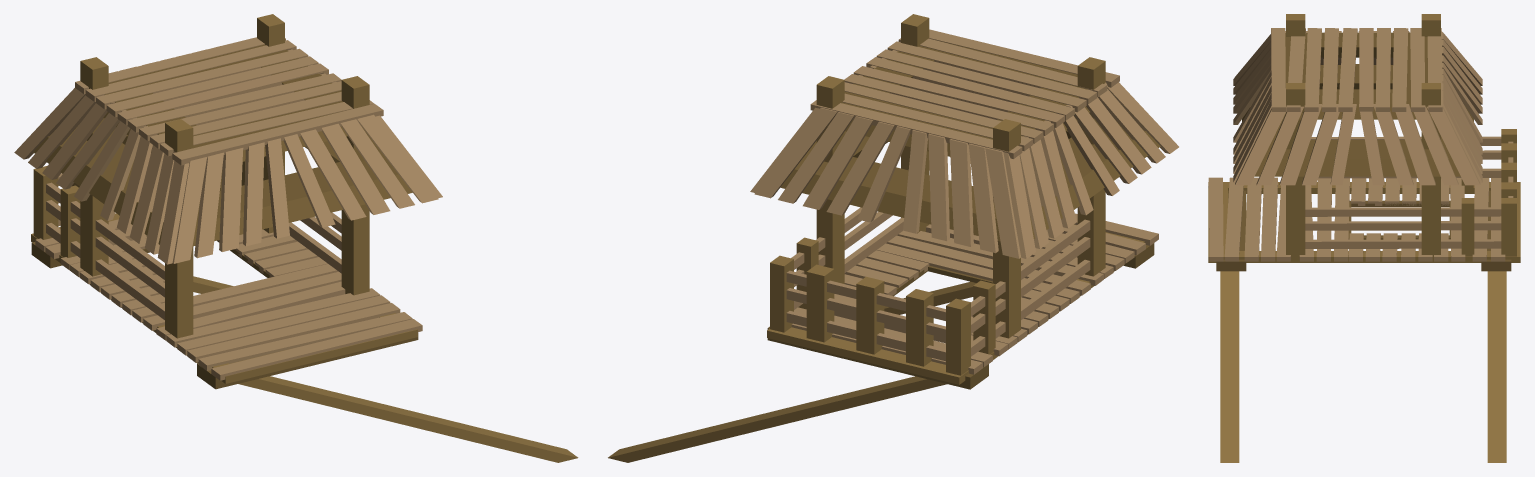
File: shack_thing.fbx
The picture shows the model from 3 angles, left to right: view 1: azimuth 30°, elevation 25°; view 2: azimuth 150°, elevation 25°; view 3: azimuth 270°, elevation 25°; orthographic projection. The views are drawn at different scales.
Parts seen in each view (by area): view 1: pCube28, pCube30, pCube70, pCube44 (×2), pCube39 (×2), pCube40 (×2), pCube38 (×2), pCube41 (×2), pCube42 (×2), pCube43 (×2), pCube37 (×2), pPlane13 (+30 smaller); view 2: pCube28, pCube30, pCube68, pCube38 (×2), pCube39 (×2), pCube37 (×2), pCube44 (×2), pCube40, pCube42, pCube41, pPlane23, pPlane22 (+35 smaller); view 3: pCube28, pCube30, pCube68, pCube70, pCube44 (×2), pCube42 (×2), pCube41 (×2), pCube38 (×2), pCube37 (×2), pCube43 (×2), pCube40 (×2), pCube39 (×2) (+48 smaller).
Part boxes in pixels (x1,y1,x2,y2): pCube28: [31, 14, 417, 383]; pCube30: [33, 44, 412, 246]; pCube70: [238, 376, 578, 462]; pCube44 (×2): [172, 103, 422, 380]; pCube39 (×2): [117, 63, 345, 340]; pCube40 (×2): [127, 73, 380, 347]; pCube38 (×2): [106, 56, 341, 330]; pCube41 (×2): [139, 81, 390, 355]; pCube42 (×2): [150, 92, 400, 362]; pCube43 (×2): [160, 100, 412, 370]; pCube37 (×2): [96, 48, 338, 322]; pPlane13: [219, 148, 243, 251]; pCube28: [767, 14, 1144, 384]; pCube30: [780, 39, 1160, 241]; pCube68: [608, 376, 947, 462]; pCube38 (×2): [844, 74, 1090, 295]; pCube39 (×2): [853, 66, 1103, 285]; pCube37 (×2): [844, 82, 1079, 303]; pCube44 (×2): [929, 29, 1158, 245]; pCube40: [866, 57, 1074, 120]; pCube42: [887, 41, 1097, 104]; pCube41: [876, 49, 1086, 112]; pPlane23: [949, 139, 973, 246]; pPlane22: [928, 133, 949, 241]; pCube28: [1208, 14, 1520, 262]; pCube30: [1242, 32, 1473, 176]; pCube68: [1487, 271, 1506, 462]; pCube70: [1220, 271, 1239, 462]; pCube44 (×2): [1208, 28, 1285, 261]; pCube42 (×2): [1244, 28, 1321, 261]; pCube41 (×2): [1261, 28, 1338, 261]; pCube38 (×2): [1316, 28, 1390, 261]; pCube37 (×2): [1334, 28, 1408, 261]; pCube43 (×2): [1224, 28, 1305, 261]; pCube40 (×2): [1276, 28, 1357, 261]; pCube39 (×2): [1299, 28, 1373, 261].
Bounding box in the file's own units: 19.62 × 17.89 × 16.43.
